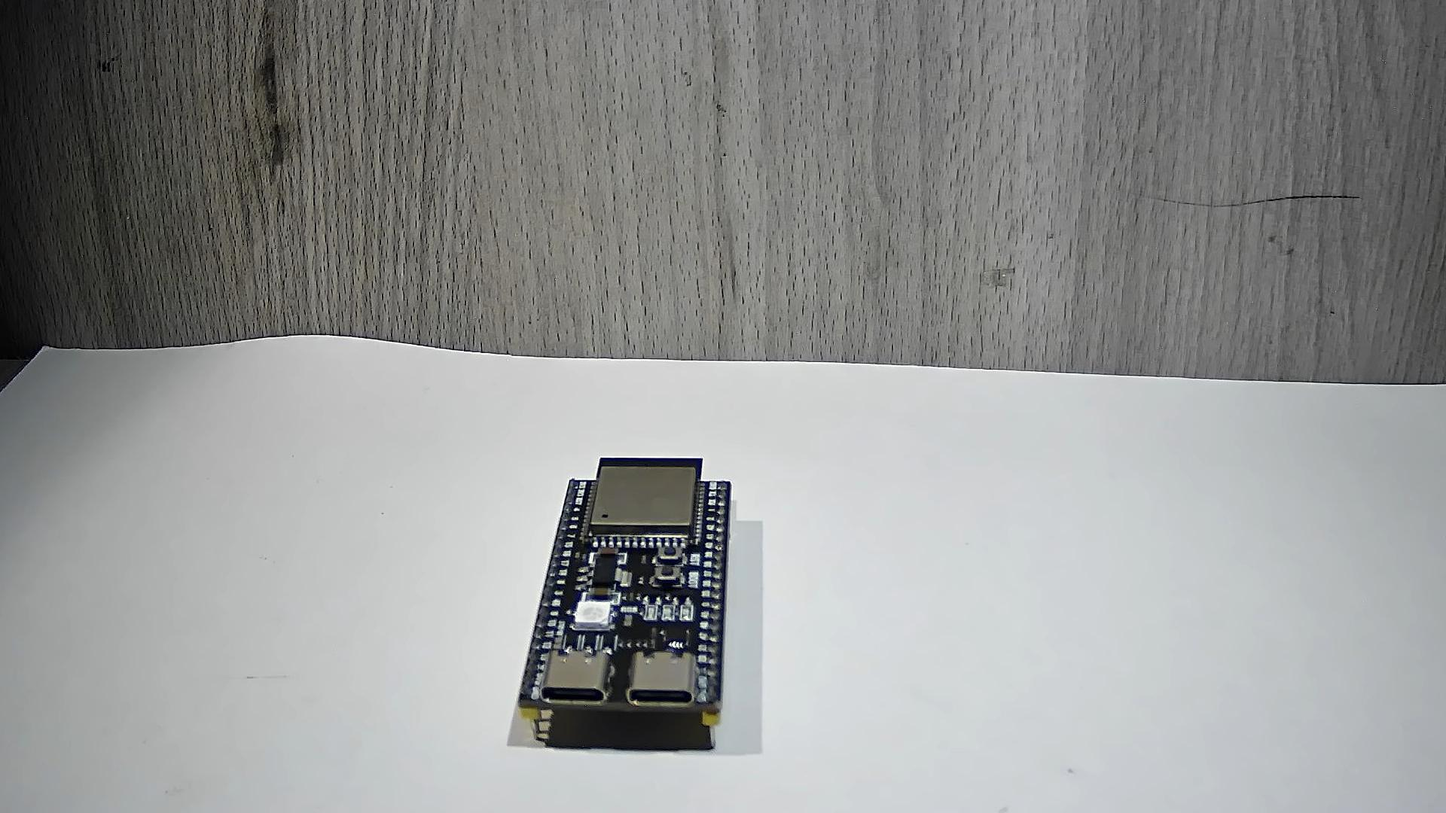ESP32: (510, 425, 749, 778)
